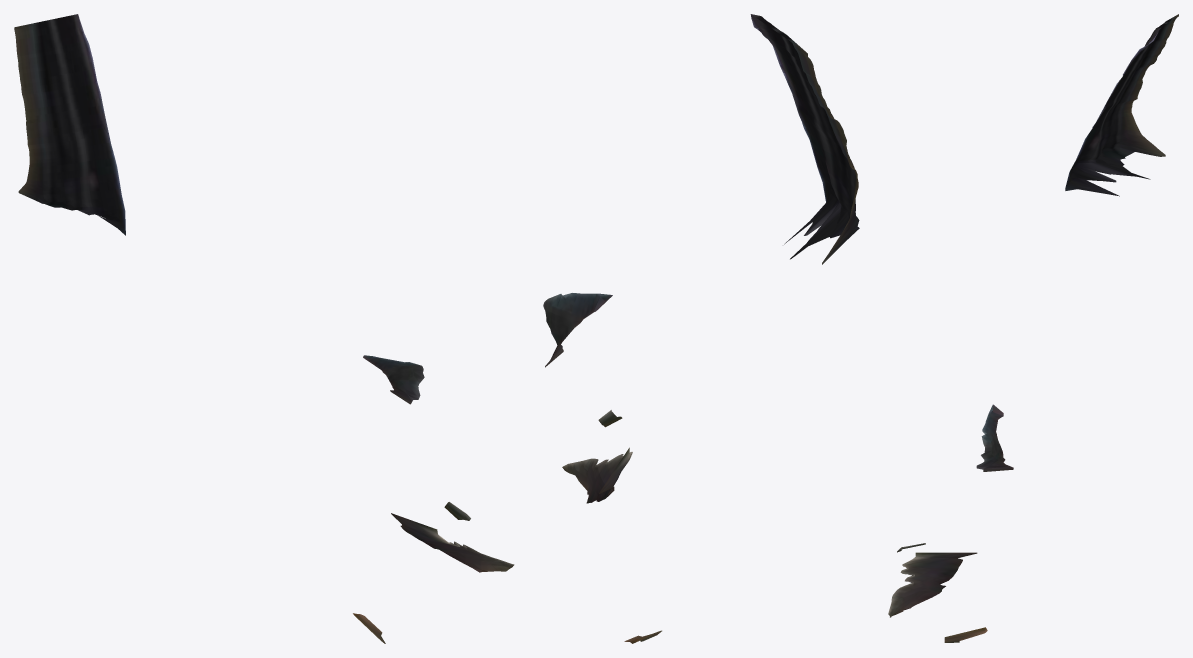
Rendered from observed-surface.glb.
3 renders of one model, left to right at view 1: azimuth 30°, elevation 25°; view 2: azimuth 150°, elevation 25°; view 3: azimuth 270°, elevation 25°, orthographic. The views are drawn at different scales.
Parts seen in each view (by area): view 1: geometry_0; view 2: geometry_0; view 3: geometry_0.
Boxes of the visible parts, box(x1,y1,x2,y2) form: geometry_0: box(14, 14, 514, 643); geometry_0: box(543, 14, 859, 643); geometry_0: box(888, 14, 1178, 642).
Bounding box in the file's own units: 0.4588 × 0.7348 × 0.365.
Materials: 1 (1 with a texture image).
